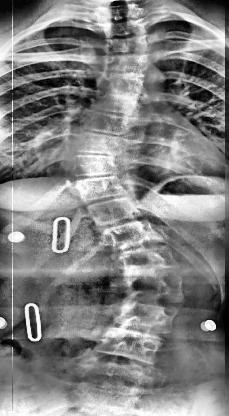Vertebrae: (75, 354, 151, 390), (94, 328, 164, 364), (123, 270, 186, 306), (113, 302, 181, 334), (117, 244, 178, 274), (106, 220, 160, 252), (88, 198, 144, 228), (70, 176, 130, 202), (93, 91, 145, 117), (84, 111, 134, 137), (72, 132, 126, 156), (70, 154, 121, 178), (103, 34, 151, 58), (101, 72, 149, 96), (104, 52, 152, 74), (94, 3, 142, 23), (100, 18, 148, 38)
